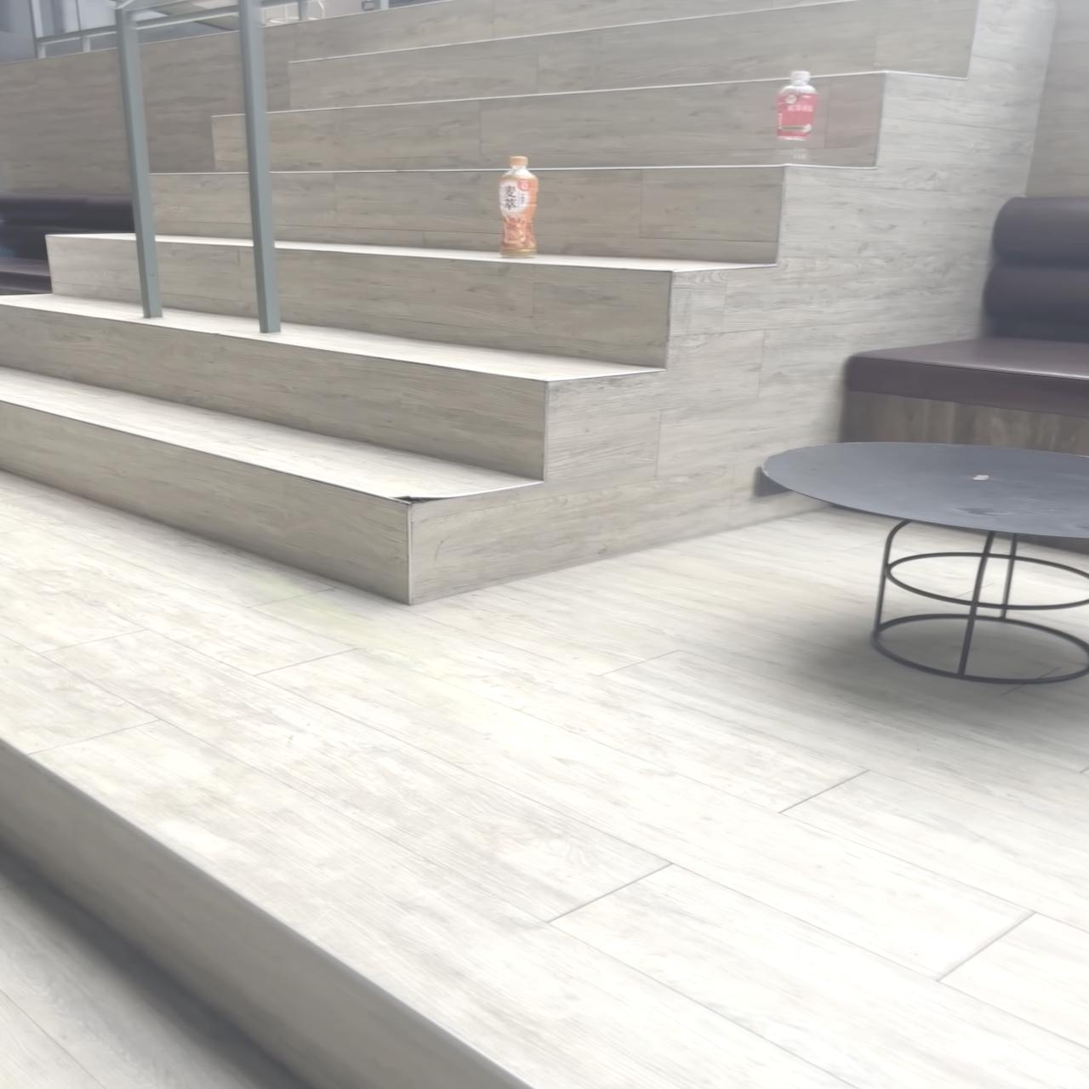plastic-bottle: (499, 157, 539, 258), (778, 71, 818, 161)
